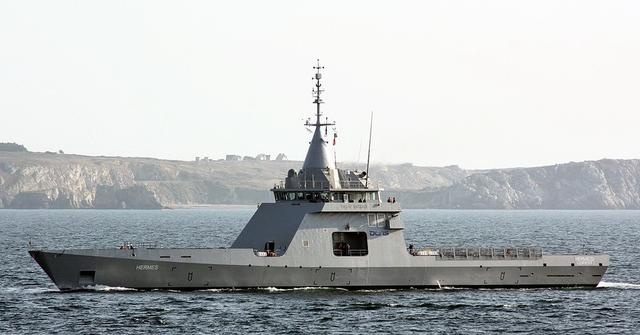warship: (25, 59, 614, 293)
